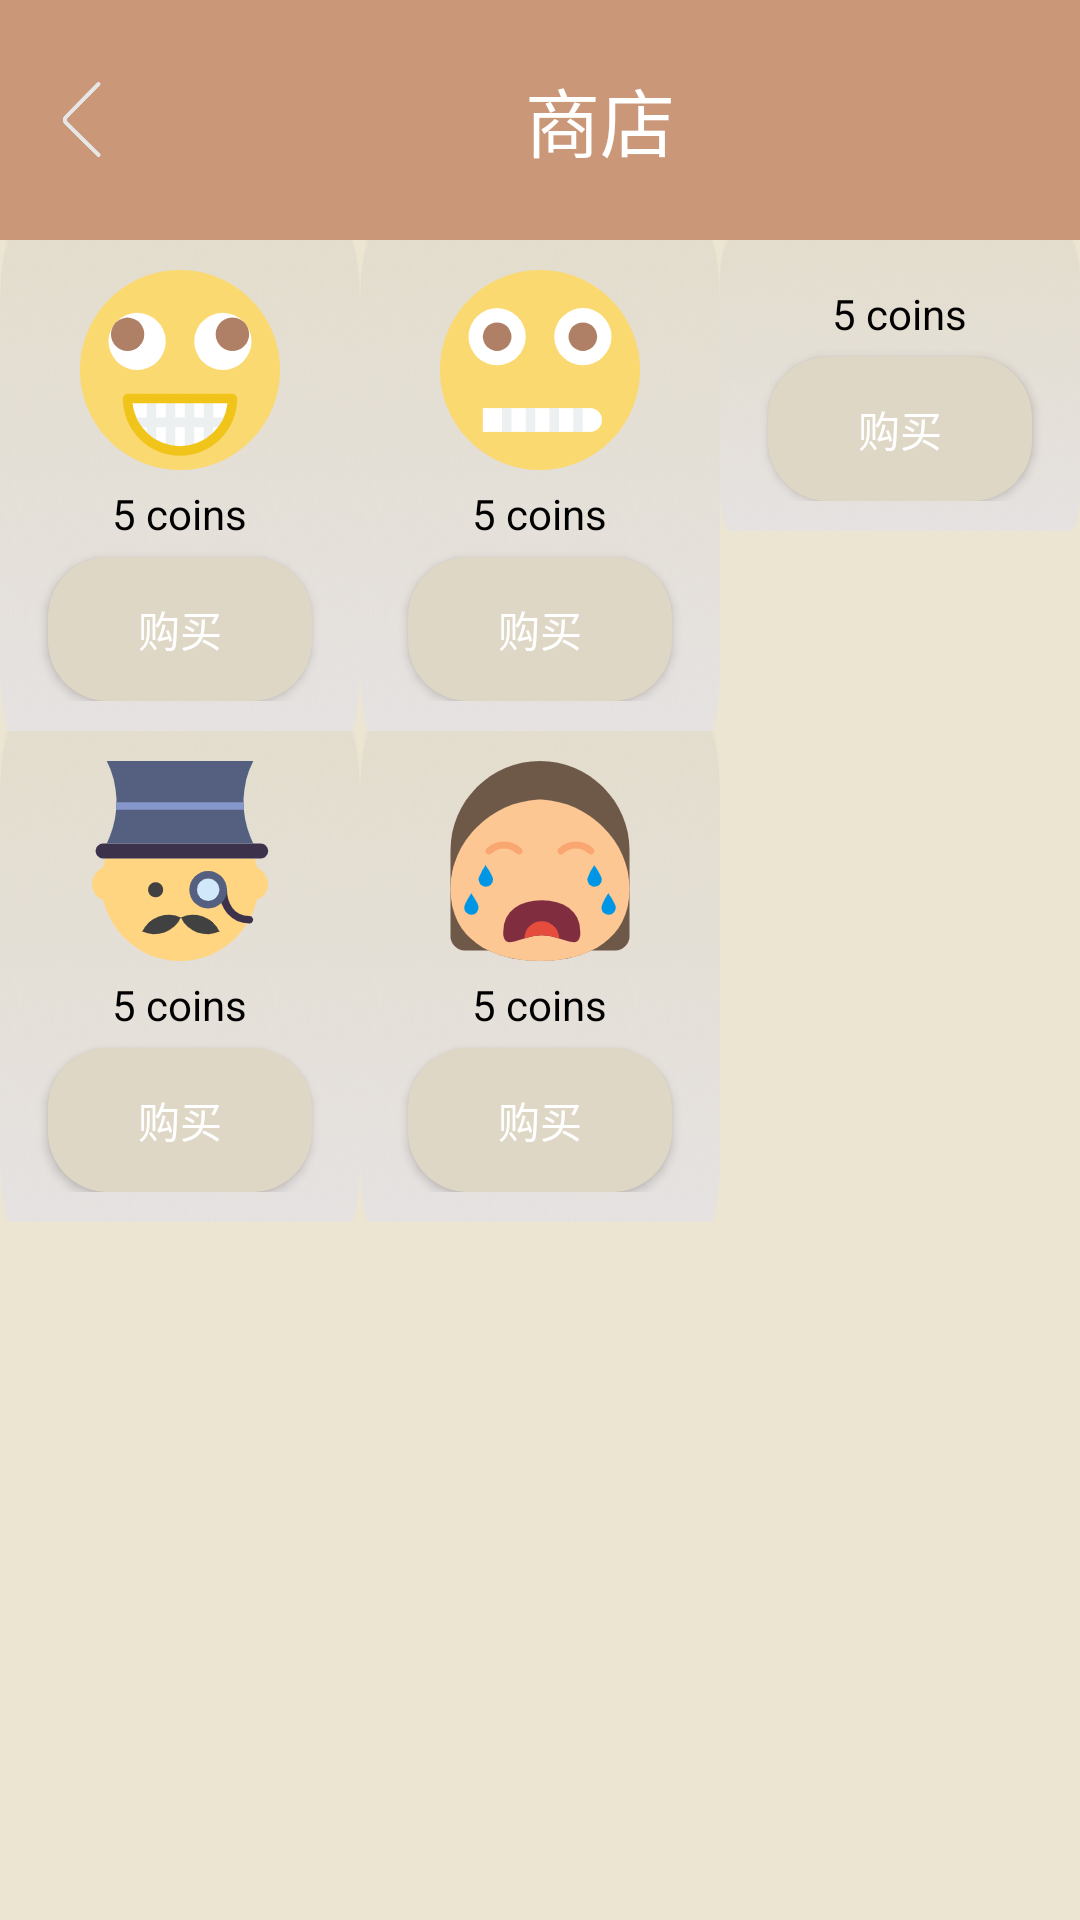

Point at icon controls on the screen. Image size 1080x1920, points as (x,y).
back: (82,119)
crying: (540,861)
gentleman: (180,861)
